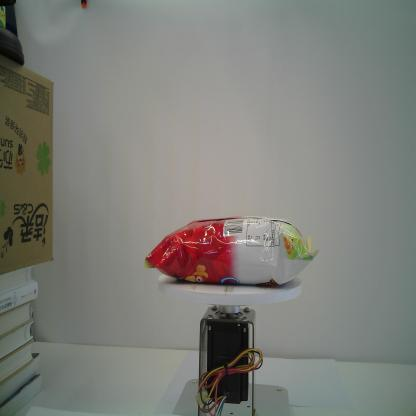Puffed Food: (142, 215, 320, 289)
